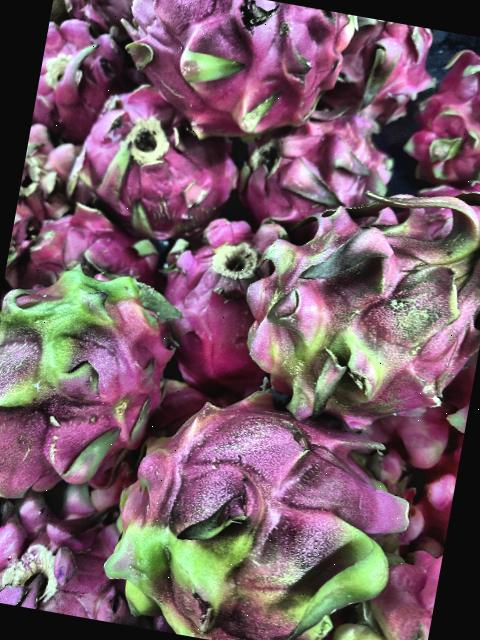buah-naga-belum-matang: (99, 377, 422, 640), (247, 156, 480, 442), (0, 246, 184, 521), (342, 533, 443, 640)
buah-naga-matang: (101, 0, 344, 143), (71, 82, 240, 238), (146, 206, 286, 388), (243, 107, 402, 229), (0, 483, 128, 621), (7, 194, 161, 306), (30, 12, 143, 143), (328, 14, 445, 129), (415, 38, 480, 201), (14, 118, 84, 227), (58, 0, 147, 39)
